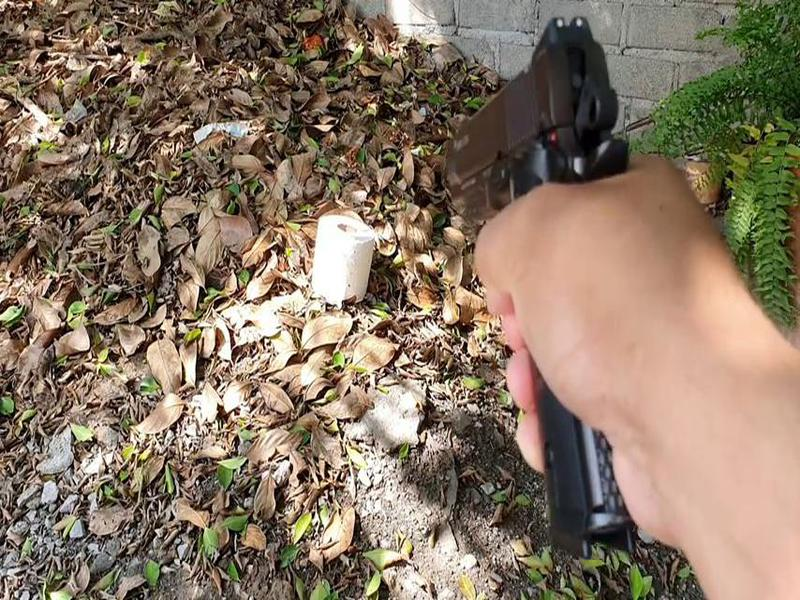Pistola: (425, 7, 668, 559)
